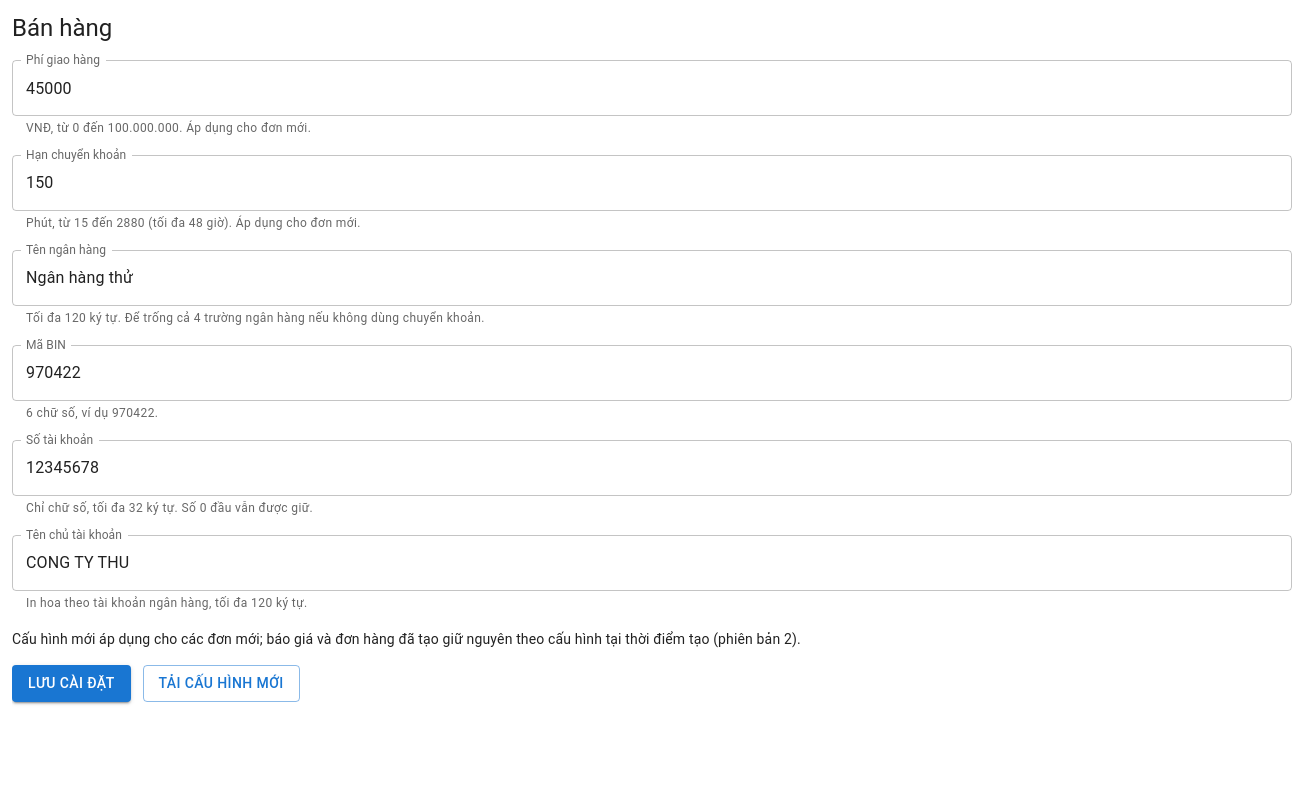
Test case: settings form › blocks an invalid save (Phí giao hàng="abc") and keeps the field editable
The image size is (1304, 812).
Replace the text in the field labelled "Phí giao hàng" with "abc" at (652, 88), box [12,60,1292,116]
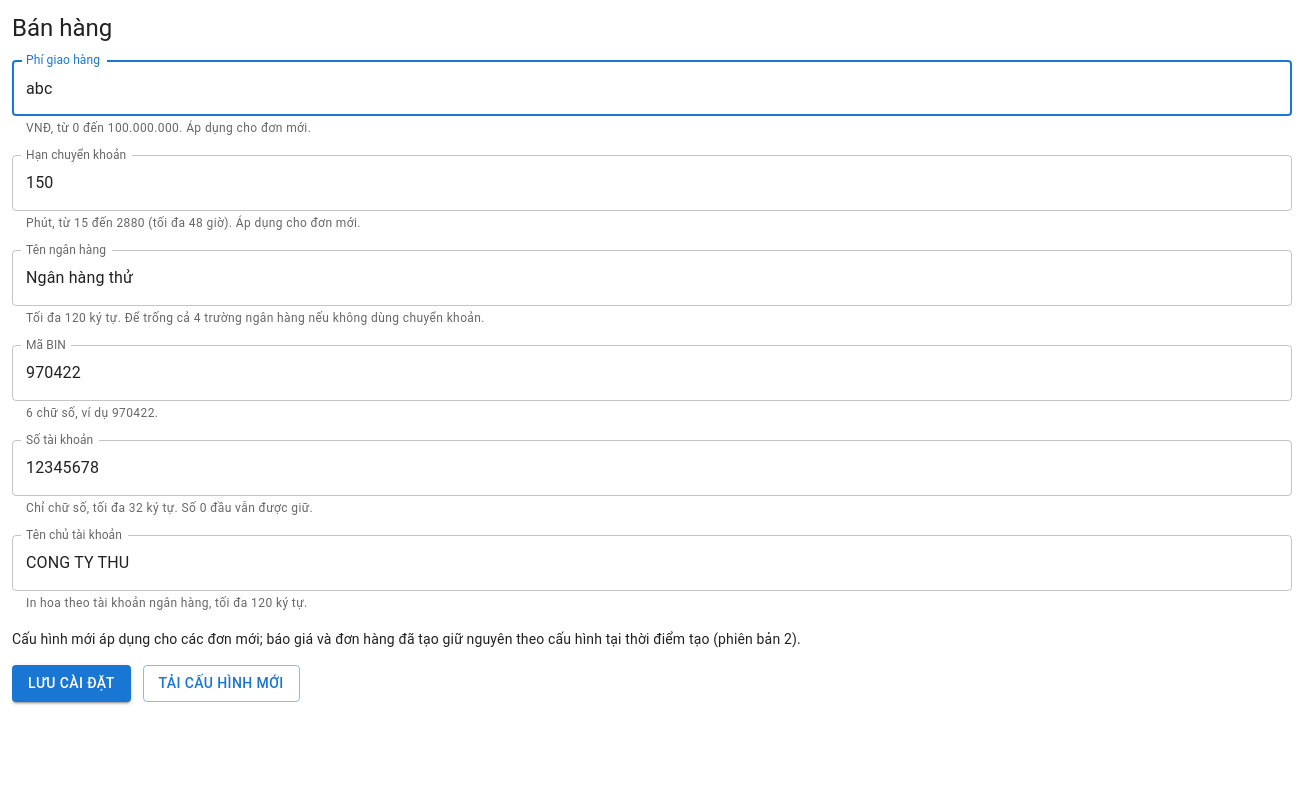
Click the button "Lưu cài đặt".
click(71, 684)  # box [12,666,131,702]
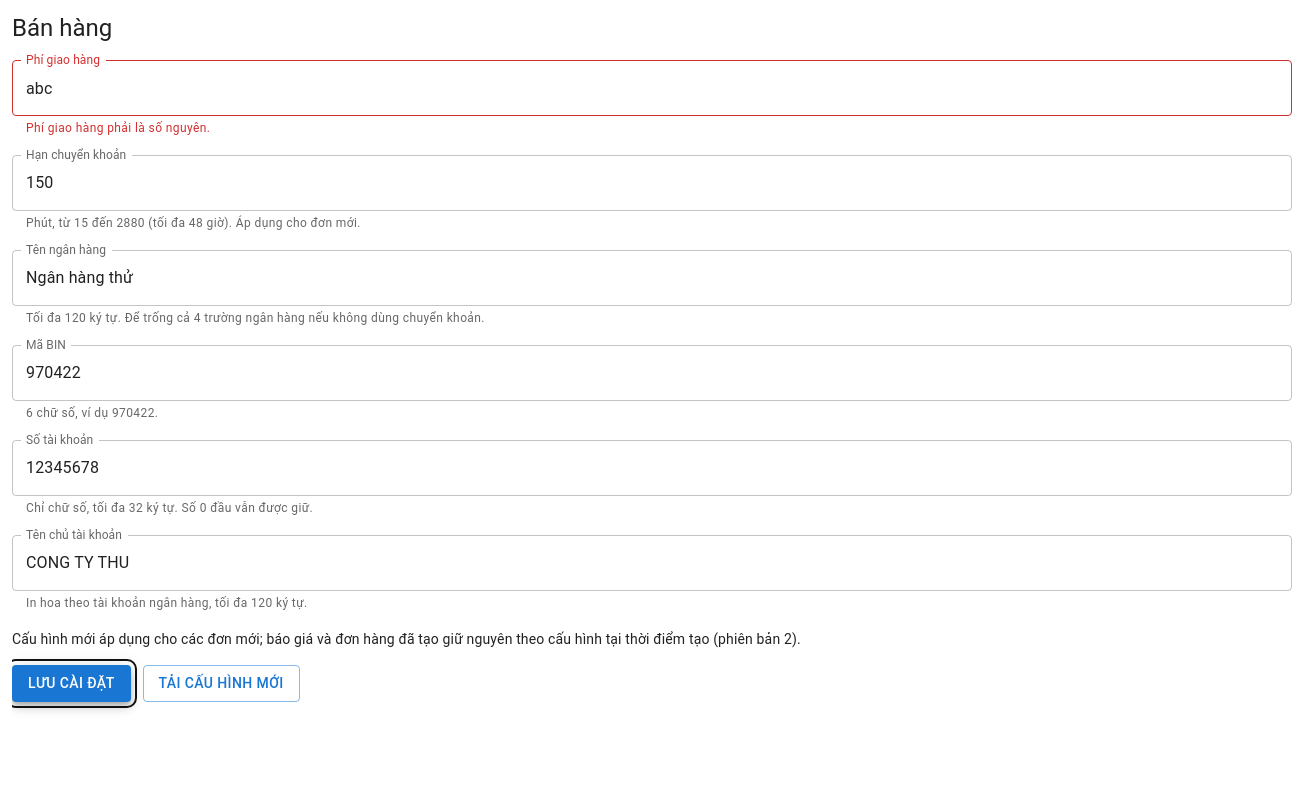
Expected: the field labelled "Phí giao hàng" is enabled, [12,60,1292,116]
Expected: the text "Phí giao hàng phải là số nguyên." is shown, [26,121,210,135]
